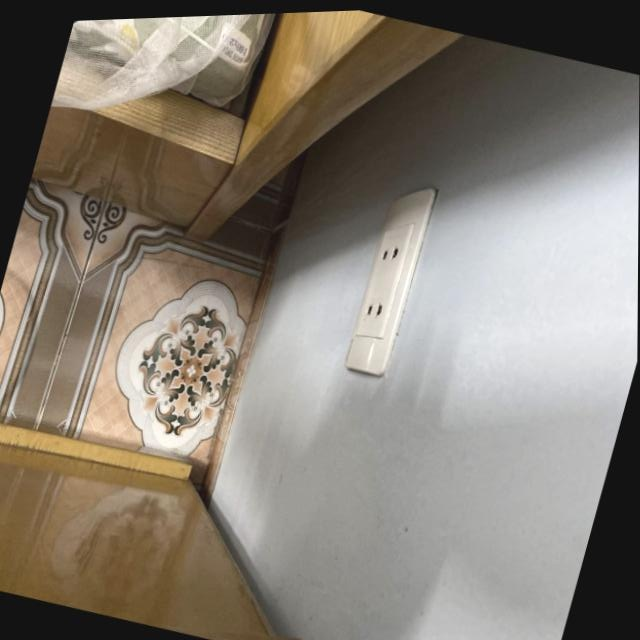outlet: (343, 176, 440, 379)
